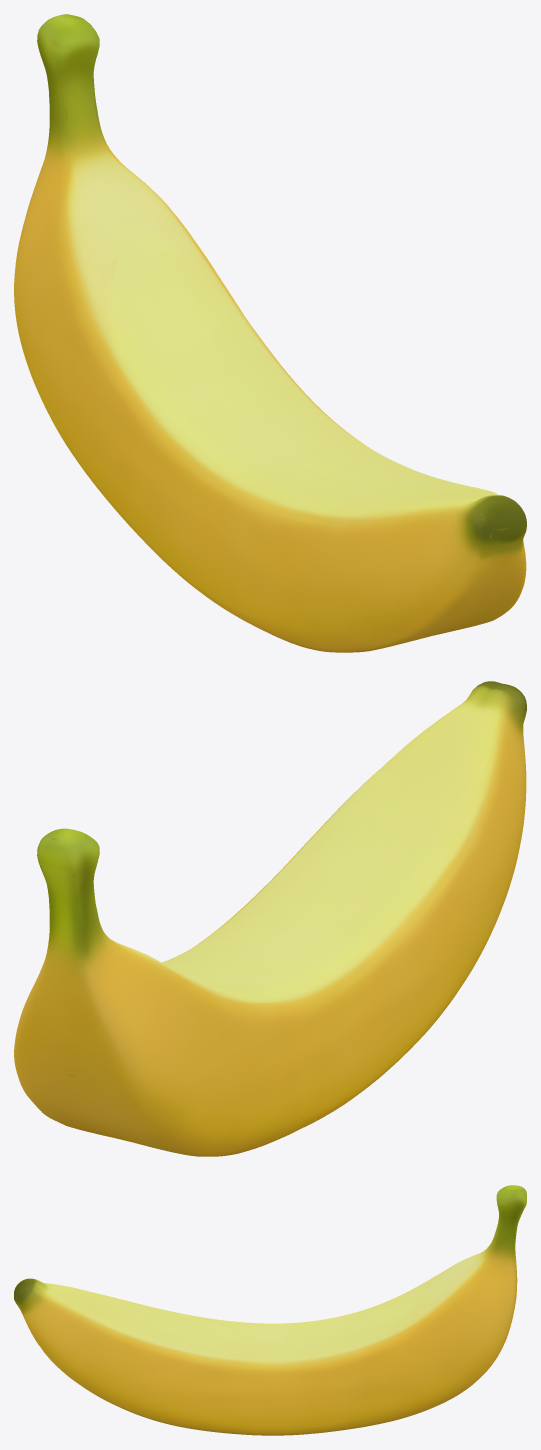
File: lod_basic_shaded.fbx
3 renders of one model, top to bottom at view 1: azimuth 30°, elevation 25°; view 2: azimuth 150°, elevation 25°; view 3: azimuth 270°, elevation 25°, orthographic. The views are drawn at different scales.
Parts seen in each view (by area): view 1: model_LOD0; view 2: model_LOD0; view 3: model_LOD0.
Boxes of the visible parts, x1=… form: model_LOD0: x1=14, y1=14, x2=526, y2=652; model_LOD0: x1=14, y1=681, x2=526, y2=1156; model_LOD0: x1=14, y1=1185, x2=526, y2=1435.
Size of what is drawn, in the model's own units: 41.37 by 94.47 by 189.
